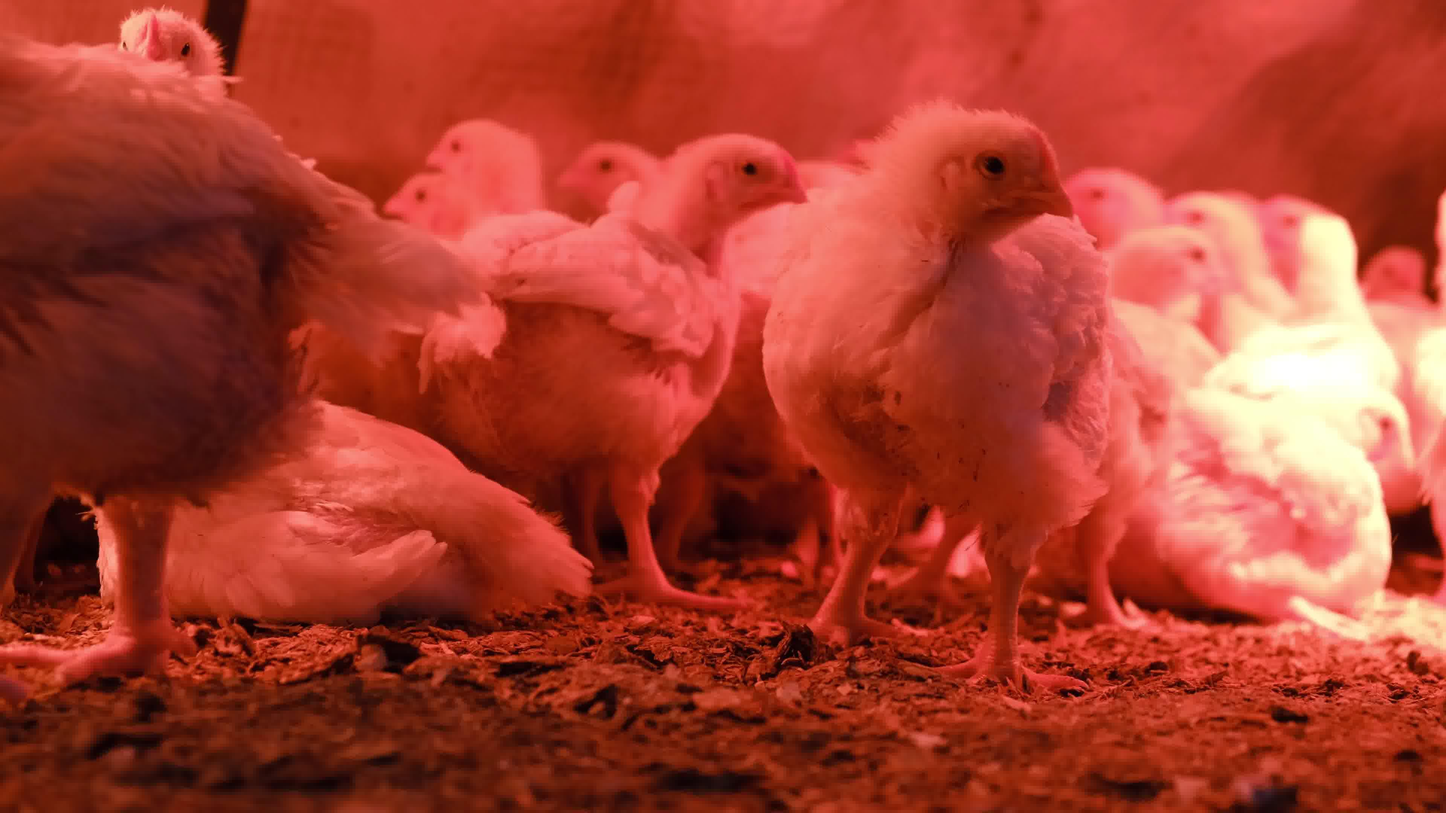AbNormal: (156, 369, 599, 623), (1132, 369, 1406, 647)
Normal: (727, 94, 1216, 661), (9, 8, 316, 676), (442, 128, 828, 598), (324, 75, 589, 273), (1278, 215, 1425, 506), (1024, 136, 1254, 311), (1179, 177, 1292, 284)
